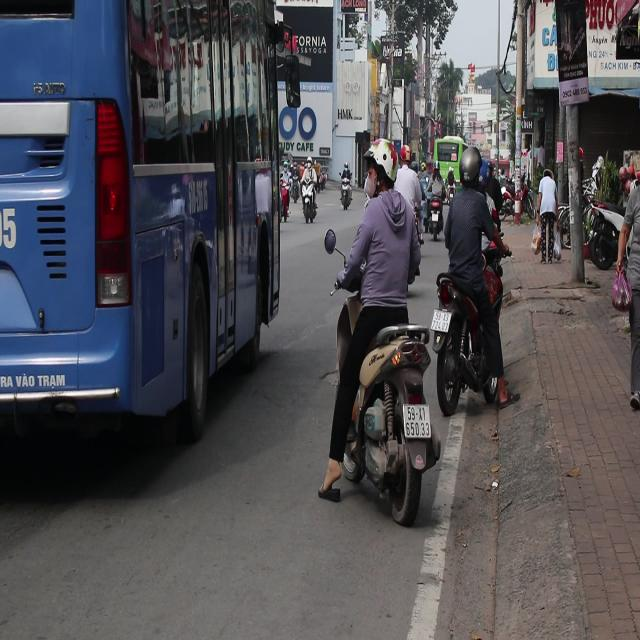bus: (0, 0, 286, 478), (434, 138, 466, 178)
motorbike: (310, 268, 422, 555), (434, 268, 547, 492), (583, 192, 622, 268), (335, 169, 358, 209), (300, 186, 321, 228), (446, 181, 456, 203), (431, 208, 439, 233)
